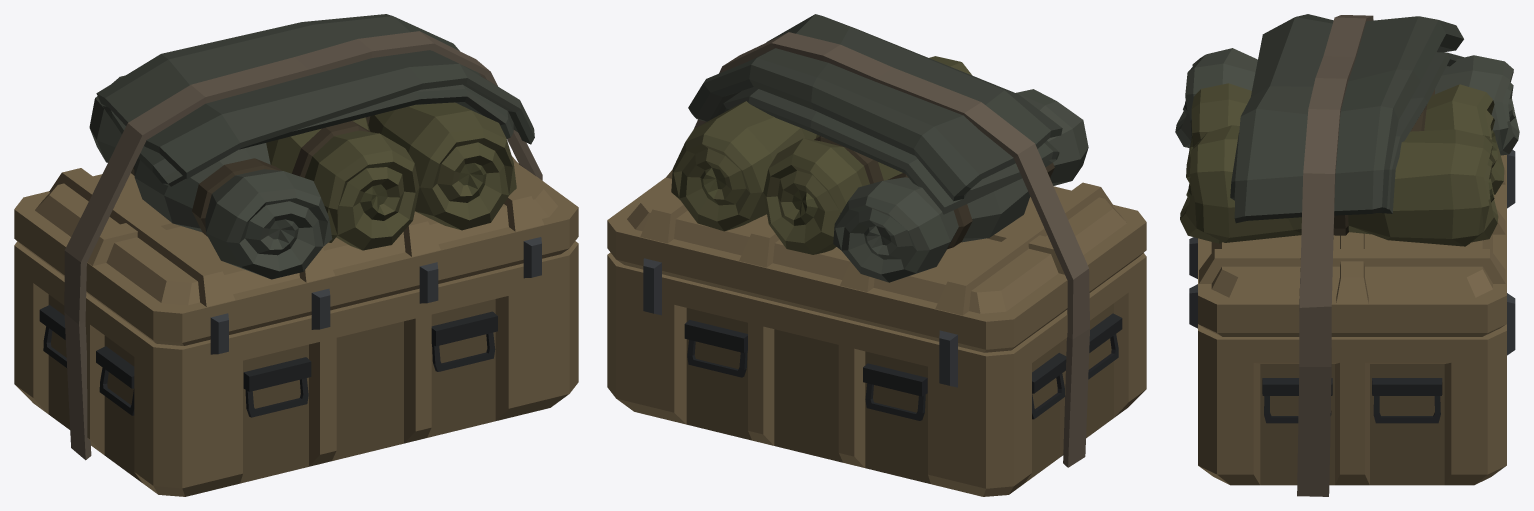
The model's file is SM_Veh_Attach_Box_Stack_01.fbx.
The picture shows the model from 3 angles, left to right: view 1: azimuth 30°, elevation 25°; view 2: azimuth 150°, elevation 25°; view 3: azimuth 270°, elevation 25°; orthographic projection. The views are drawn at different scales.
Parts seen in each view (by area): view 1: SM_Veh_Attach_Box_Stack_01; view 2: SM_Veh_Attach_Box_Stack_01; view 3: SM_Veh_Attach_Box_Stack_01.
Part boxes in pixels (left/top/right/bottom): SM_Veh_Attach_Box_Stack_01: left=14, top=14, right=578, bottom=496; SM_Veh_Attach_Box_Stack_01: left=607, top=14, right=1146, bottom=496; SM_Veh_Attach_Box_Stack_01: left=1175, top=14, right=1519, bottom=496.
Size of the model in its own units: 124 by 96.55 by 86.53.
